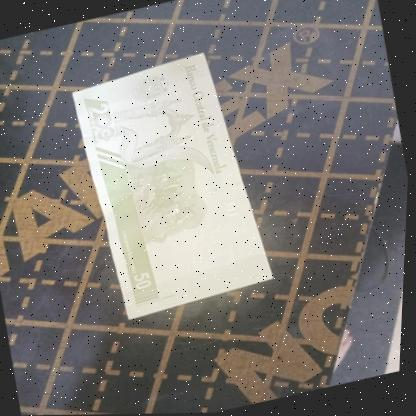fifty-back-vef: (62, 45, 286, 325)
